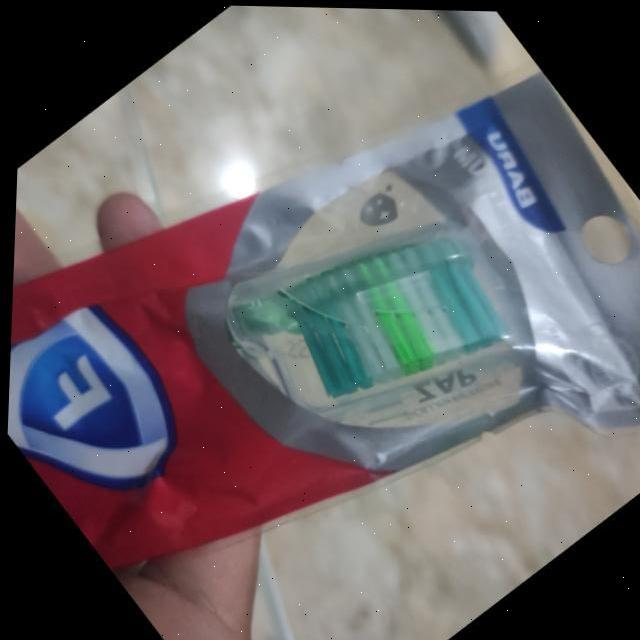toothbrush: (6, 188, 526, 452)
